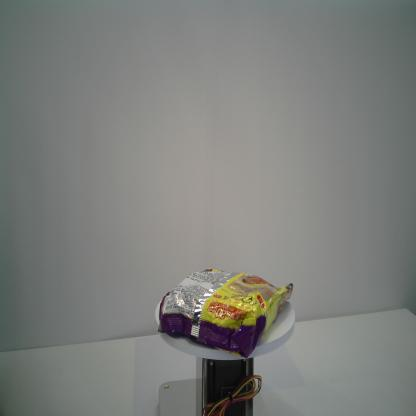Instant Noodles: (155, 266, 294, 364)
